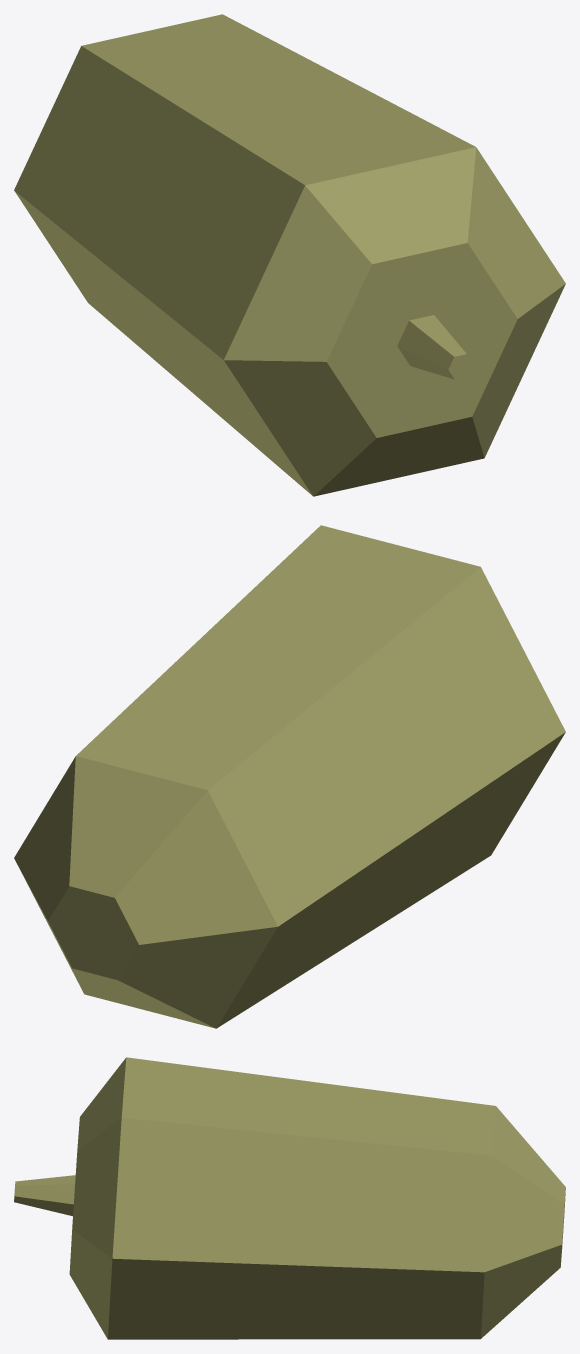
The picture shows the model from 3 angles, top to bottom: view 1: azimuth 30°, elevation 25°; view 2: azimuth 150°, elevation 25°; view 3: azimuth 270°, elevation 25°; orthographic projection. The views are drawn at different scales.
Parts seen in each view (by area): view 1: 玉米_pCylinder3; view 2: 玉米_pCylinder3; view 3: 玉米_pCylinder3.
Boxes of the visible parts, x1=… form: 玉米_pCylinder3: x1=14, y1=14, x2=565, y2=496; 玉米_pCylinder3: x1=14, y1=525, x2=565, y2=1028; 玉米_pCylinder3: x1=14, y1=1057, x2=565, y2=1339.
Bounding box in the file's own units: 12.46 × 10.79 × 24.23.
